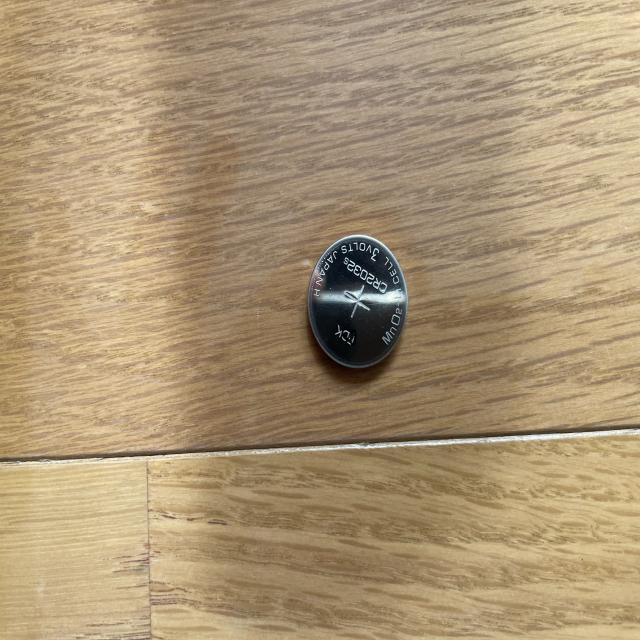COIN: (308, 232, 408, 371)
